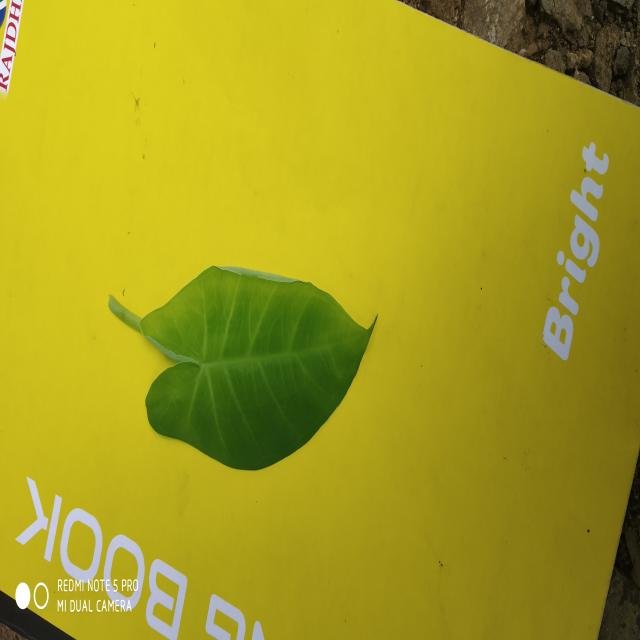taro: (109, 267, 375, 469)
